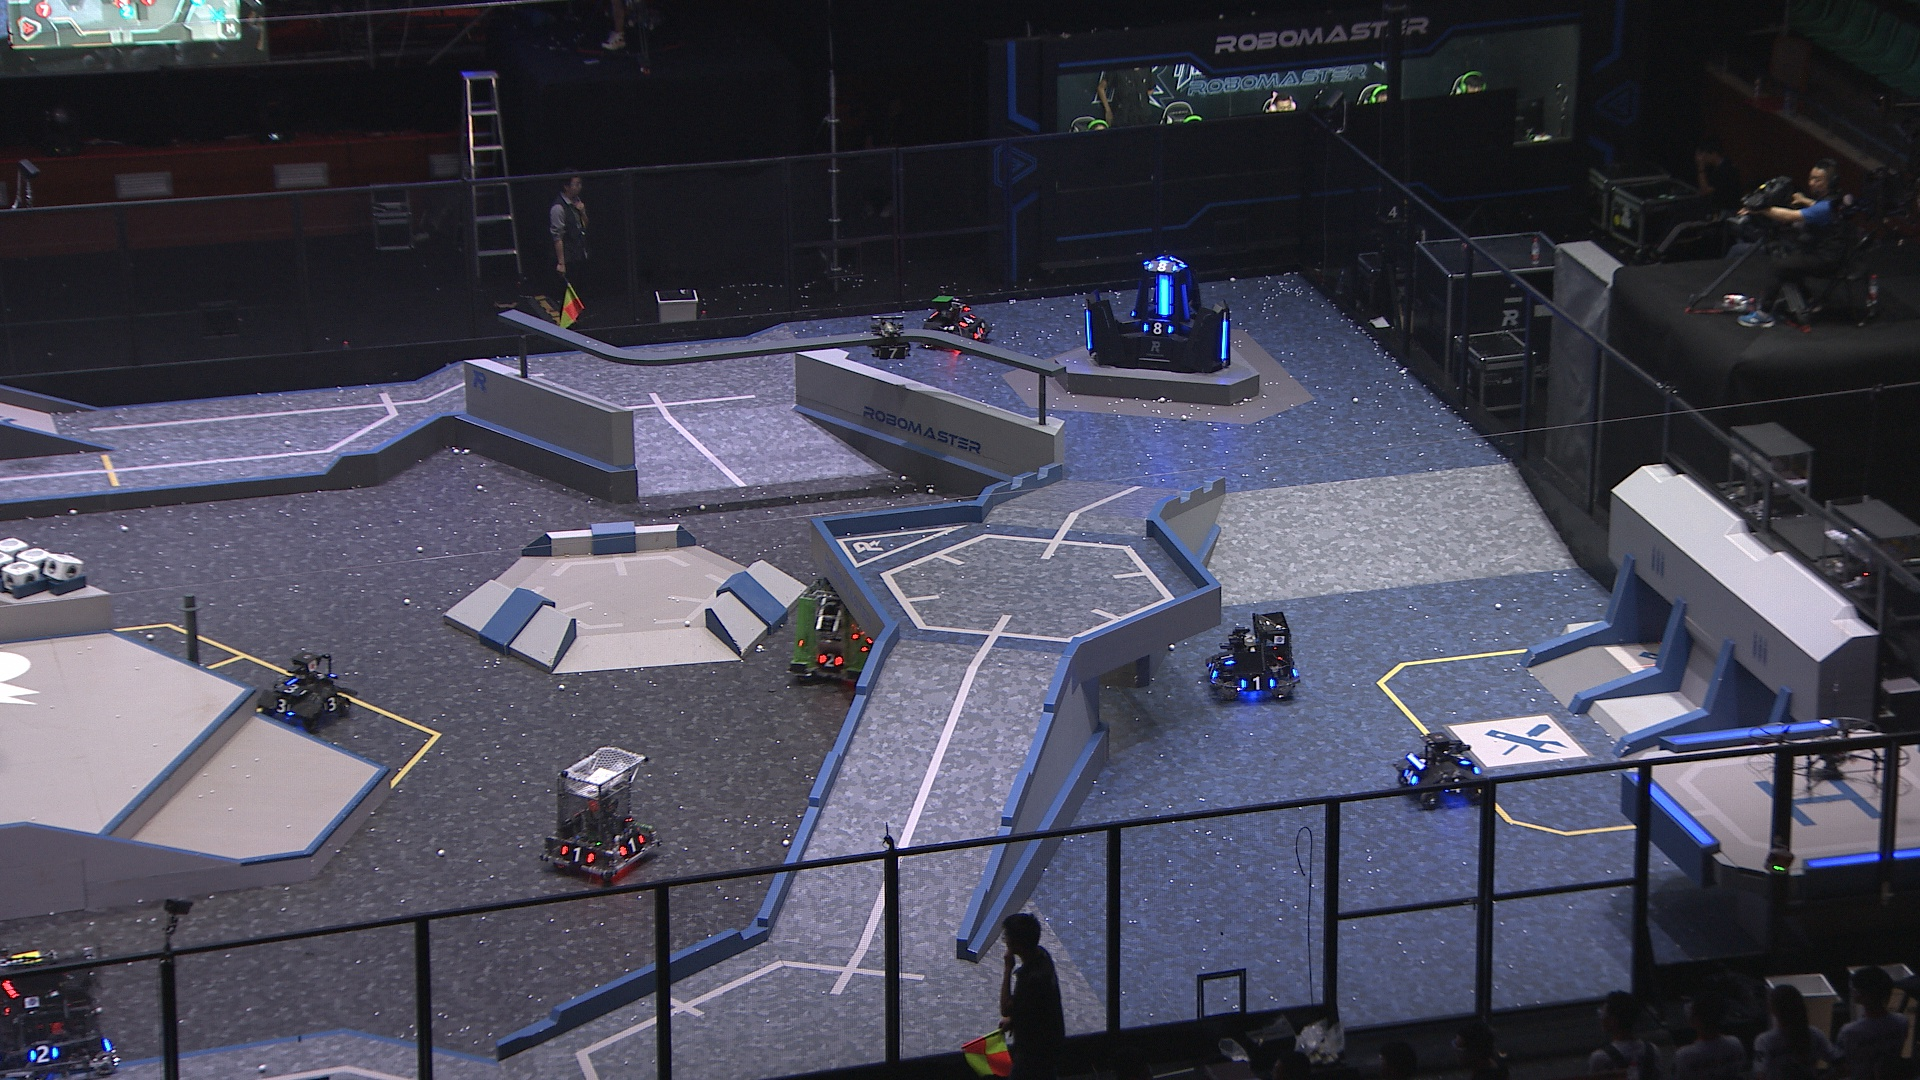armor: (26, 1040, 61, 1065), (1155, 276, 1174, 315), (560, 844, 596, 864), (617, 833, 646, 856), (276, 680, 310, 699), (1218, 318, 1232, 361), (1178, 282, 1192, 322), (1242, 674, 1276, 690), (1084, 309, 1096, 352), (818, 651, 844, 670), (1141, 320, 1174, 335), (1439, 777, 1466, 794), (877, 347, 909, 361), (320, 694, 342, 713), (1147, 261, 1178, 273), (269, 698, 291, 713), (956, 313, 978, 328), (1403, 767, 1423, 785), (1204, 659, 1220, 680), (1215, 651, 1236, 665), (971, 324, 986, 342)
base: (1079, 256, 1232, 372)
car: (533, 742, 662, 884), (787, 576, 891, 688), (1201, 609, 1305, 704), (253, 647, 353, 732), (1393, 728, 1489, 812), (922, 291, 994, 353)
watcher: (868, 313, 913, 361)
